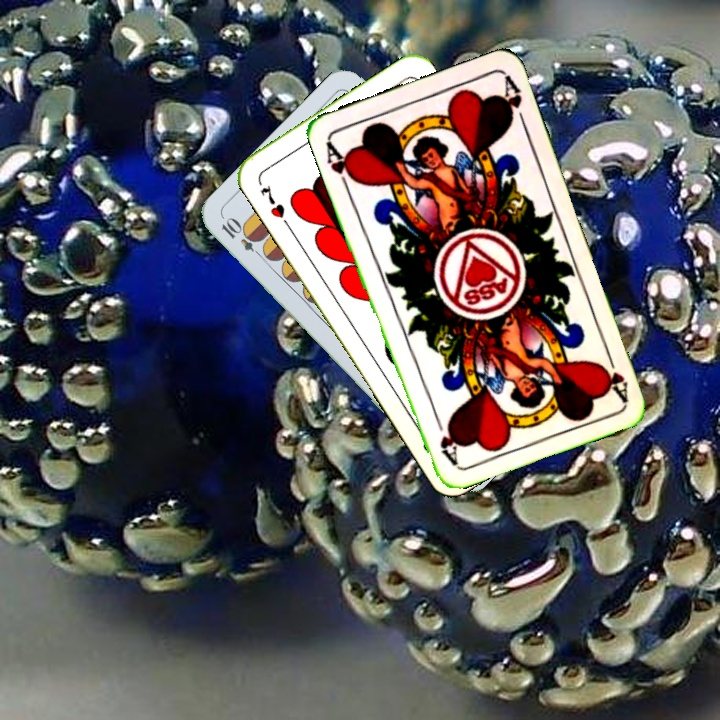E10: (217, 214, 268, 262)
H7: (256, 181, 293, 230)
HA: (321, 137, 360, 194), (594, 345, 631, 403)
